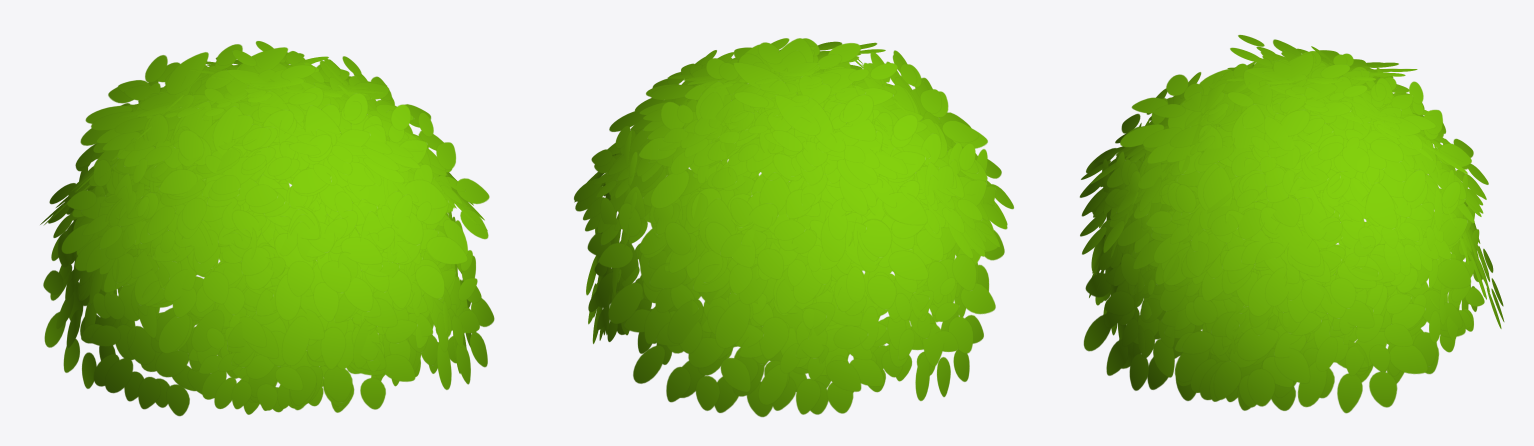
File: bush.glb
3 renders of one model, left to right at view 1: azimuth 30°, elevation 25°; view 2: azimuth 150°, elevation 25°; view 3: azimuth 270°, elevation 25°, orthographic. The views are drawn at different scales.
Visible parts, largest first — view 1: Bush; view 2: Bush; view 3: Bush.
Boxes of the visible parts, x1,y1,x2,y2 form: Bush: (40, 41, 494, 416); Bush: (574, 38, 1013, 417); Bush: (1079, 35, 1504, 413).
Size of the model in its own units: 1.09 by 0.6916 by 1.05.
1 material, 1 textured.
